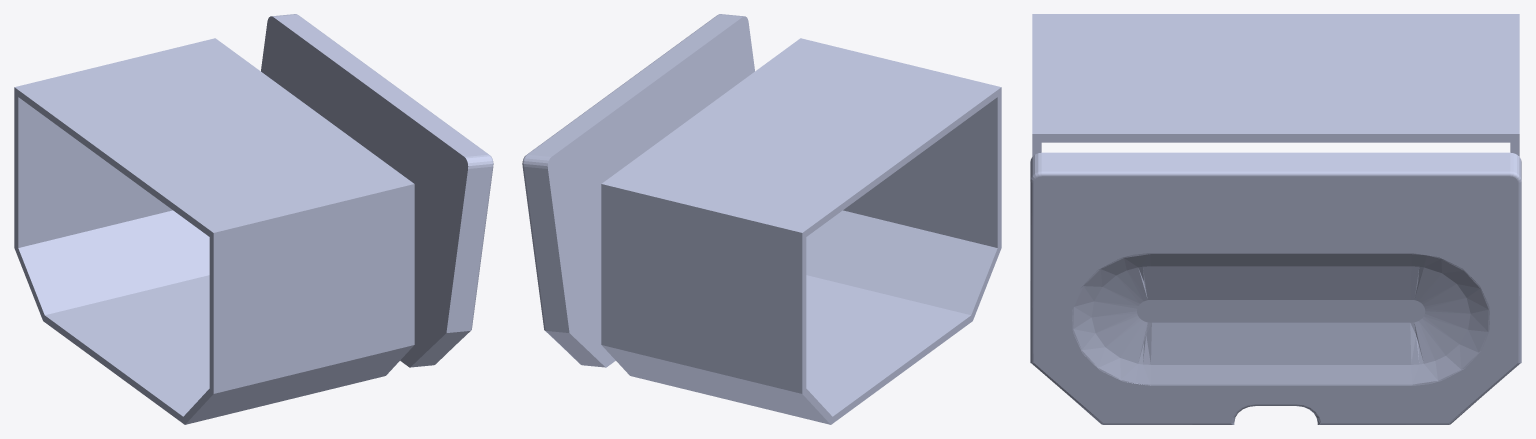
File: gbobjfullsize_extport.obj
3 views of the same model, side by side, from view 1: azimuth 30°, elevation 25°; view 2: azimuth 150°, elevation 25°; view 3: azimuth 270°, elevation 25° (orthographic). The views are drawn at different scales.
Parts seen in each view (by area): view 1: Part__Feature.022; view 2: Part__Feature.022; view 3: Part__Feature.022.
Boxes of the visible parts, x1=… form: Part__Feature.022: x1=14, y1=14, x2=493, y2=424; Part__Feature.022: x1=522, y1=14, x2=1001, y2=424; Part__Feature.022: x1=1030, y1=14, x2=1521, y2=424.
Bounding box in the file's own units: 10.49 × 8.03 × 12.98.
